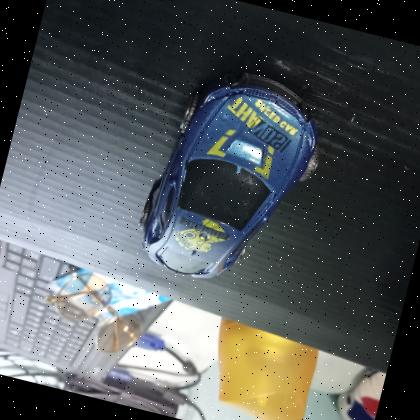Car: (125, 51, 341, 304)
